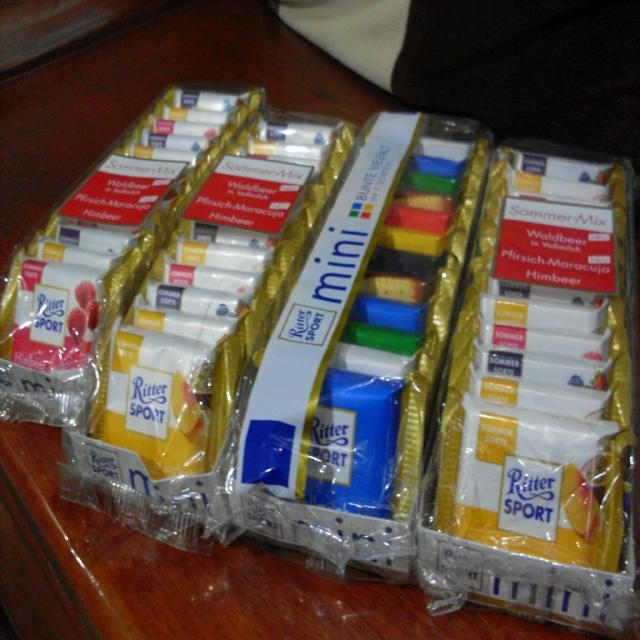rittersport: (499, 453, 564, 541), (301, 405, 358, 489), (121, 362, 178, 441), (278, 300, 334, 350), (30, 284, 70, 350)
